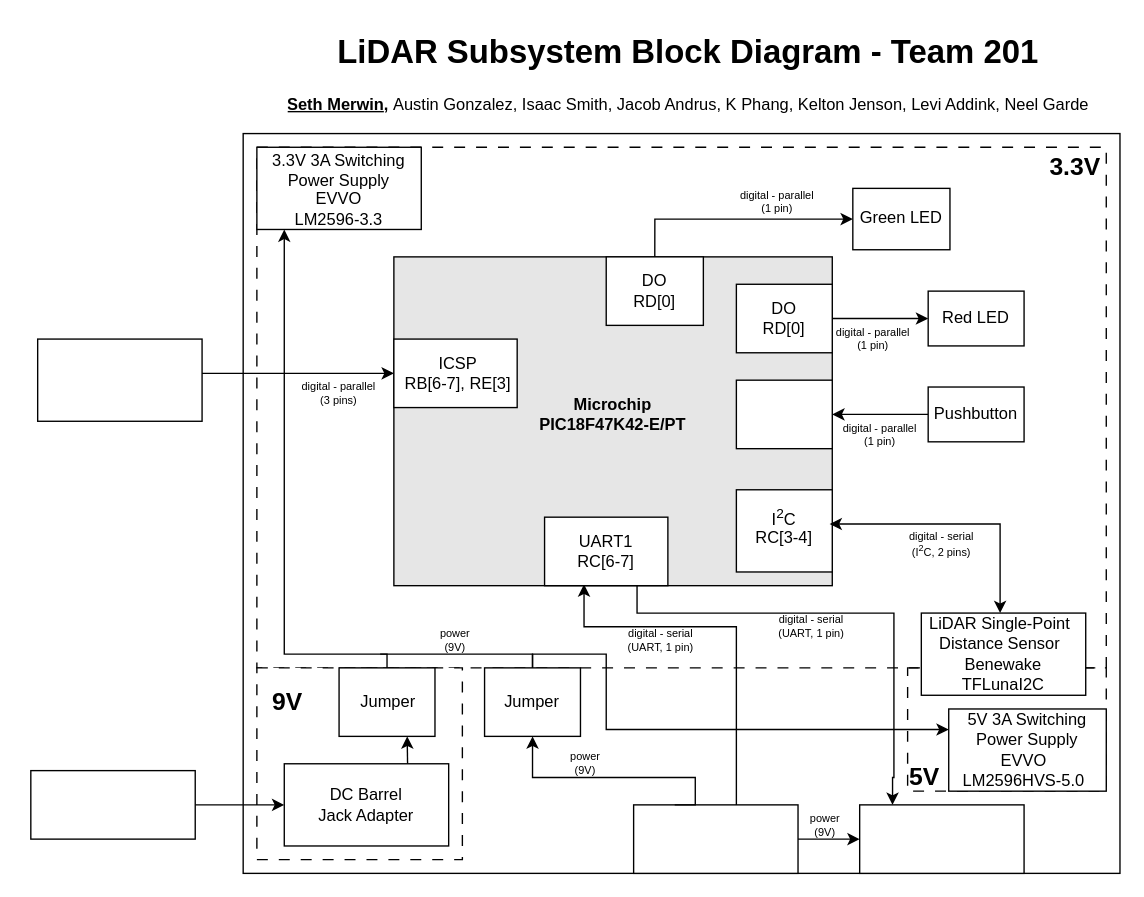
Image size: 1144x897. Some labels were removed from this diagram. Each missing label, with the centre of its shape:
"9V 3A AC/DC Wall Power Supply" belongs at point (112, 804).
"Connector In (4x2)" belongs at point (715, 838).
"Connector Out (4x2)" belongs at point (941, 838).
"DI RD[1]" belongs at point (783, 414).
"Snap Programmer Microchip PG164100" belongs at point (119, 379).
